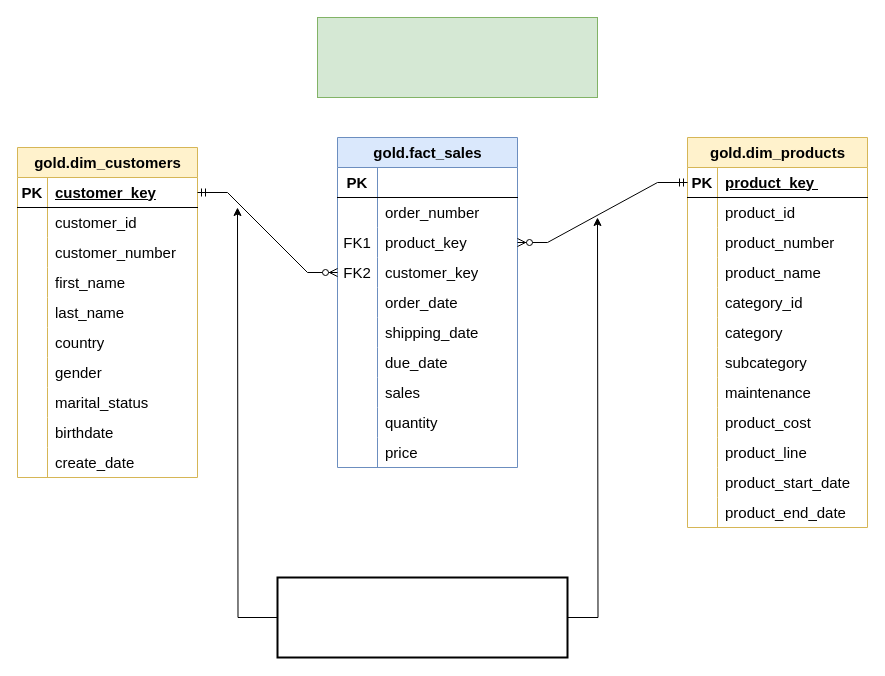
Some shapes in this 885 by 676 pixel diagram are drawn without their labels. Here are the shapes that lost their labels. From the top down, the centre of each, then its label:
At point (457, 57): "Star Schema Model SALES Data Mart".
At point (422, 617): "One(mandatory) to Many(optional)".
